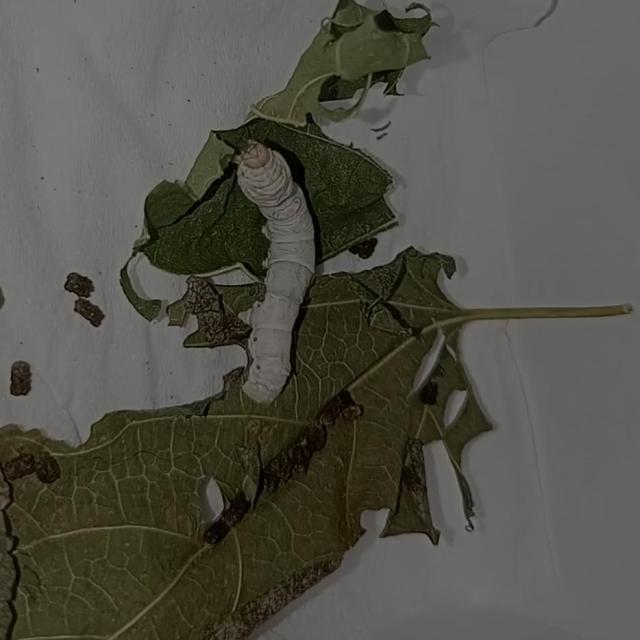Healthy: (209, 104, 366, 431)
